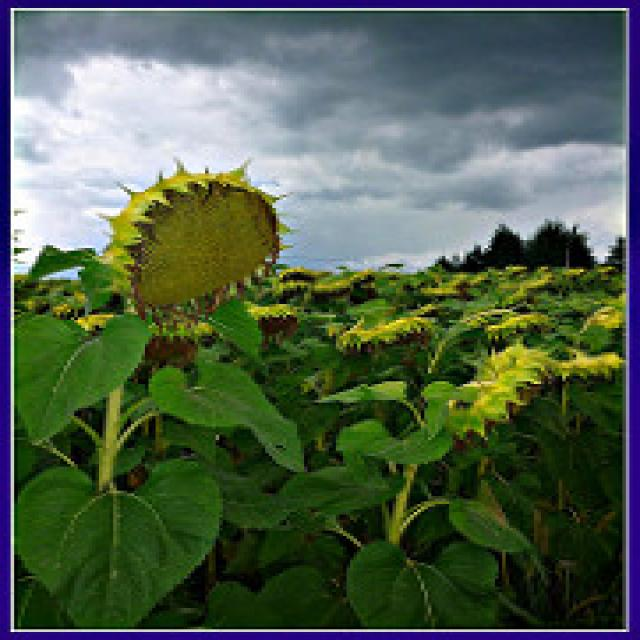sunflower: (105, 159, 283, 317)
